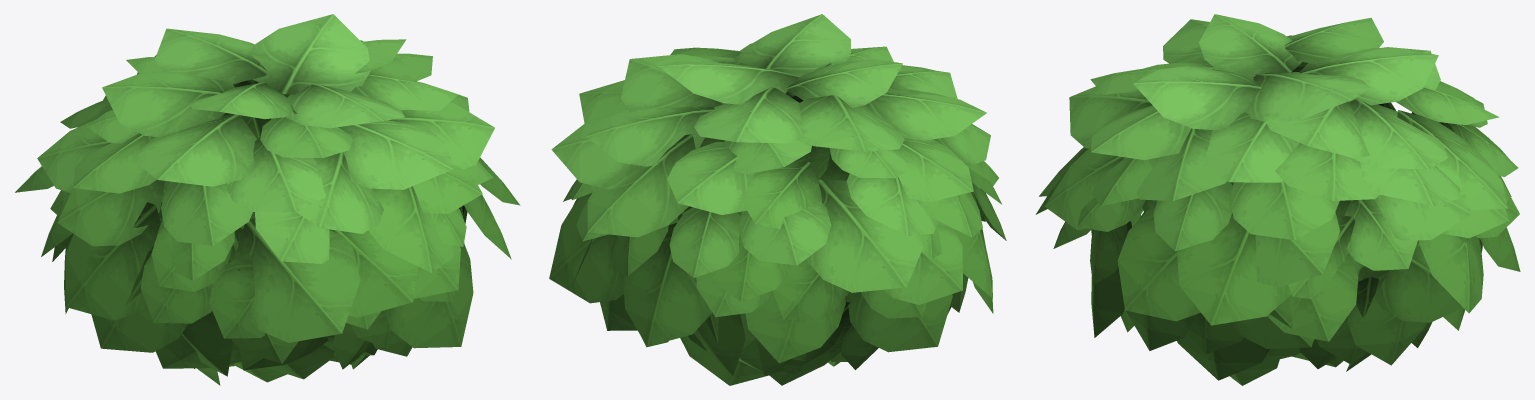
3 renders of one model, left to right at view 1: azimuth 30°, elevation 25°; view 2: azimuth 150°, elevation 25°; view 3: azimuth 270°, elevation 25°, orthographic. The views are drawn at different scales.
Visible parts, largest first — view 1: grid_8_leaves_LOD0; view 2: grid_8_leaves_LOD0; view 3: grid_8_leaves_LOD0.
Part boxes in pixels (<box>): grid_8_leaves_LOD0: <box>15,14,520,385</box>; grid_8_leaves_LOD0: <box>549,14,1006,385</box>; grid_8_leaves_LOD0: <box>1035,14,1520,385</box>.
Size of what is drawn, in the model's own units: 1.41 by 0.9617 by 1.4.
1 material, 1 textured.
